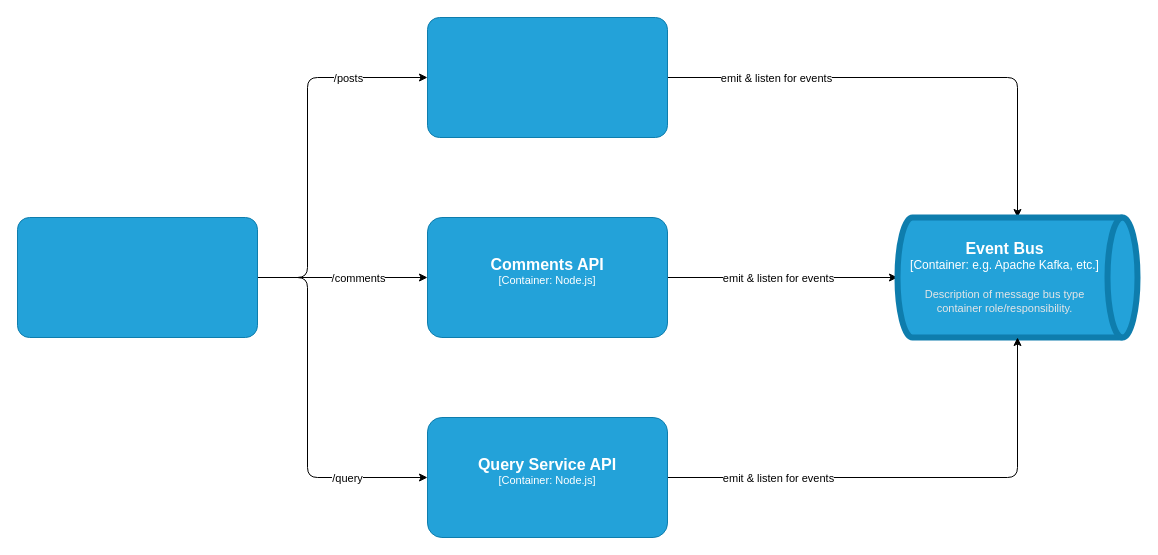
The diagram is 1158 pixels wide and 555 high, and some of its shapes have lost their labels. The centre of each missing label's shape, as x and y in pixels:
Posts API [Container: Node.js]: the point at 547,77
UI - SPA [Container: React.js]: the point at 137,277
